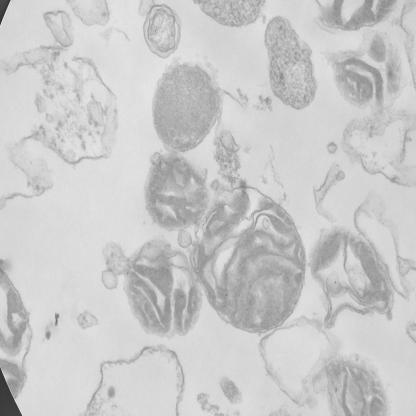mitochondria: (196, 189, 307, 332), (124, 242, 200, 334), (143, 148, 210, 228)
